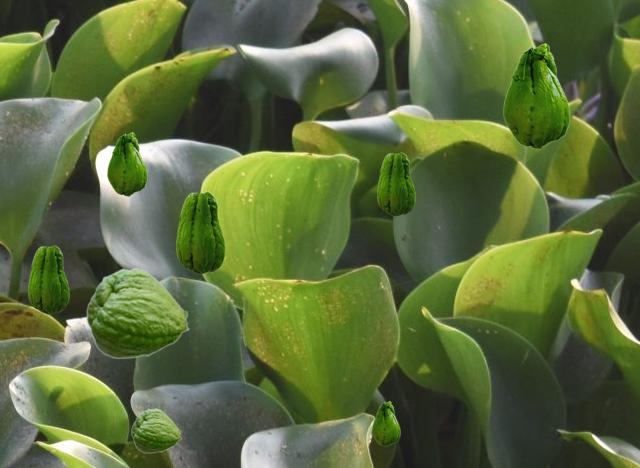sayote: (86, 267, 189, 358), (503, 43, 569, 148), (176, 191, 224, 273), (28, 245, 68, 313), (107, 132, 146, 195), (377, 152, 414, 215), (131, 408, 181, 452), (372, 401, 399, 445)
